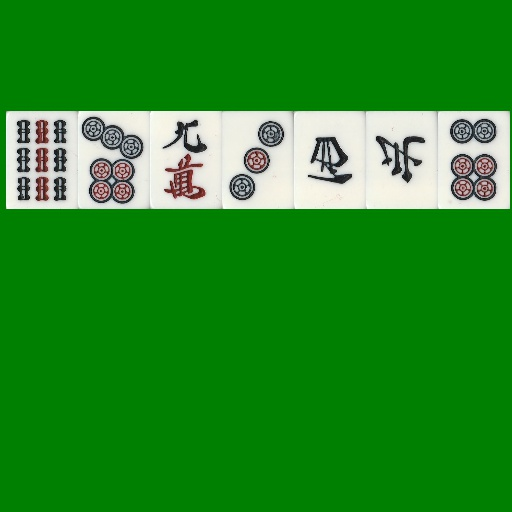3p: (222, 111, 294, 209)
6p: (438, 111, 510, 209)
7p: (78, 111, 150, 209)
9m: (150, 111, 222, 209)
9s: (6, 111, 78, 209)
north: (366, 111, 438, 209)
west: (294, 111, 366, 209)
